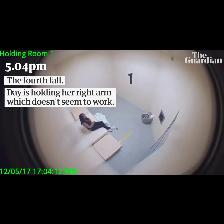person: (80, 114, 114, 131)
